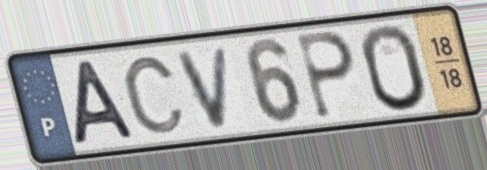6: (242, 35, 304, 128)
A: (69, 57, 140, 148)
C: (120, 53, 188, 137)
O: (357, 22, 431, 115)
P: (294, 29, 359, 122)
V: (173, 42, 233, 132)
